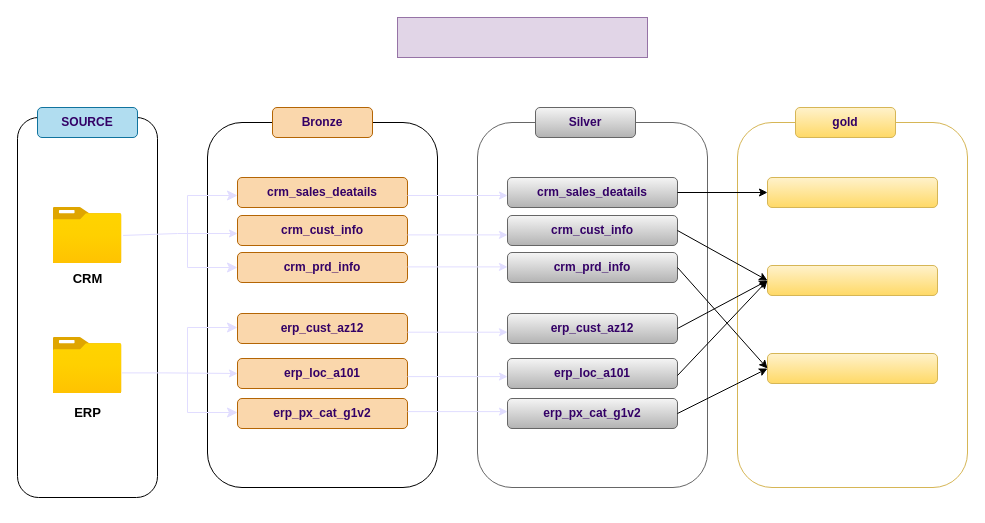
This 985x523 diagram has some shape labels left out. Here are the shapes that lost their labels. From the top down, the centre of each, then its label:
At (522,37): "Data Flow Diagram".
At (852,192): "fact_sales".
At (852,280): "dim_customers".
At (852,368): "dim_products".
